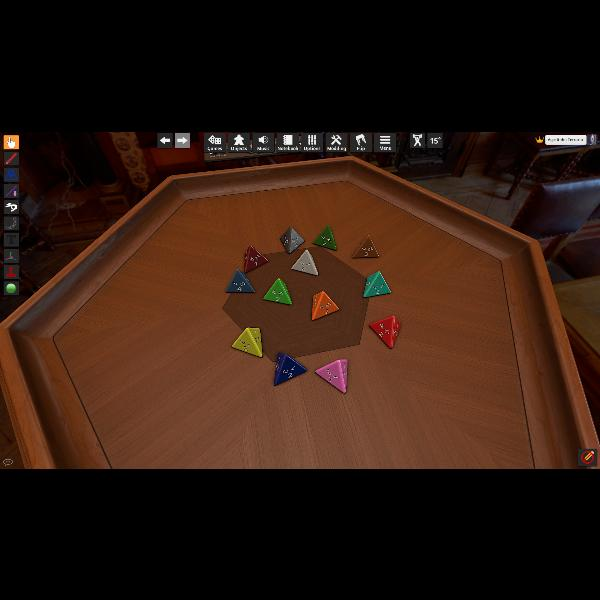d4: (274, 353, 306, 387), (315, 359, 347, 393), (368, 314, 400, 347), (232, 327, 264, 356), (311, 290, 339, 320), (290, 248, 318, 276), (264, 278, 292, 304), (226, 269, 256, 293), (364, 270, 390, 296), (280, 226, 304, 254), (244, 244, 268, 272), (352, 234, 379, 258), (313, 224, 337, 250)
